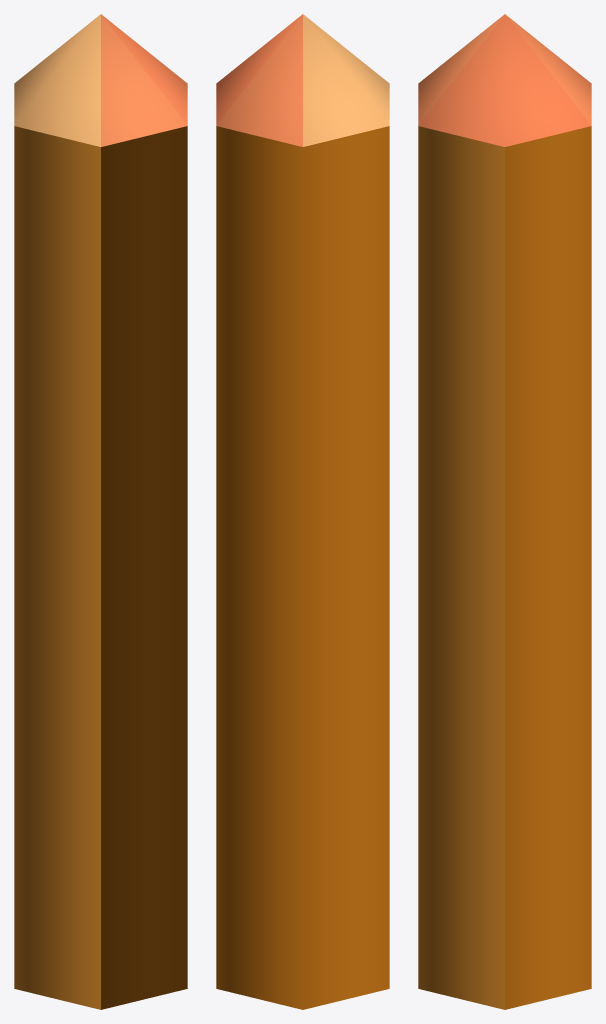
The model's file is Solo.RocketMesh.AmberBlaze.glb.
The picture shows the model from 3 angles, left to right: view 1: azimuth 30°, elevation 25°; view 2: azimuth 150°, elevation 25°; view 3: azimuth 270°, elevation 25°; orthographic projection.
Visible parts, largest first — view 1: Solo.RocketMesh.AmberBlaze; view 2: Solo.RocketMesh.AmberBlaze; view 3: Solo.RocketMesh.AmberBlaze.
Part boxes in pixels (left/top/right/bottom): Solo.RocketMesh.AmberBlaze: left=14, top=14, right=187, bottom=1009; Solo.RocketMesh.AmberBlaze: left=216, top=14, right=389, bottom=1009; Solo.RocketMesh.AmberBlaze: left=418, top=14, right=591, bottom=1009.
Size of the model in its own units: 0.2 by 1.05 by 0.1732.
1 material, 1 textured.
